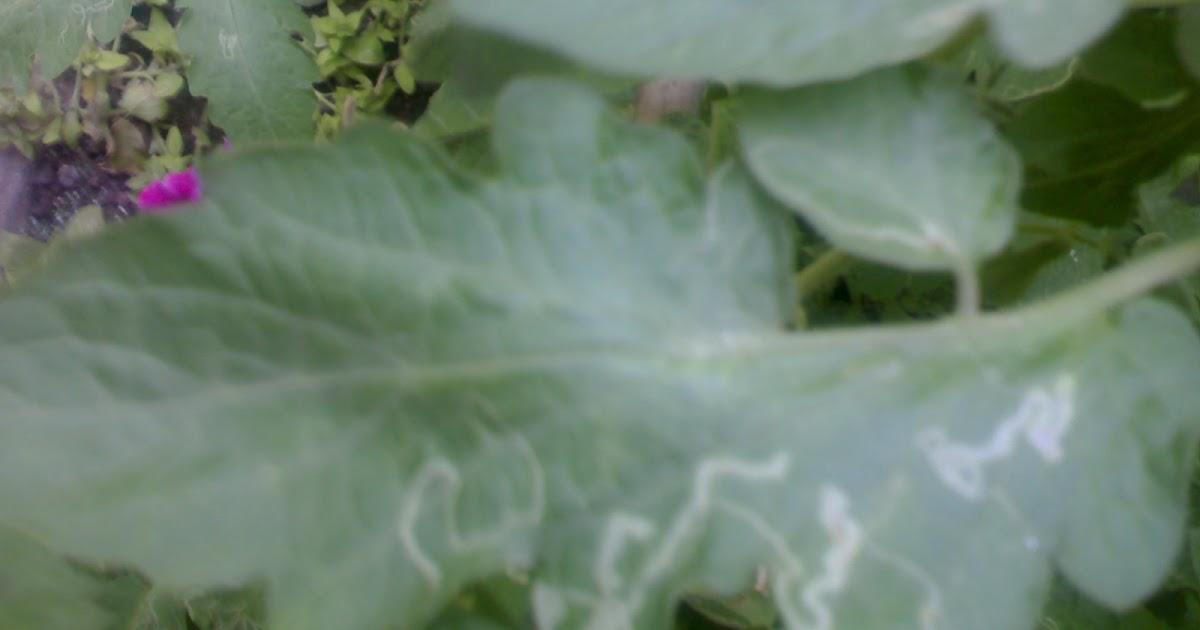Leaf_Miner: (0, 77, 1200, 630)
